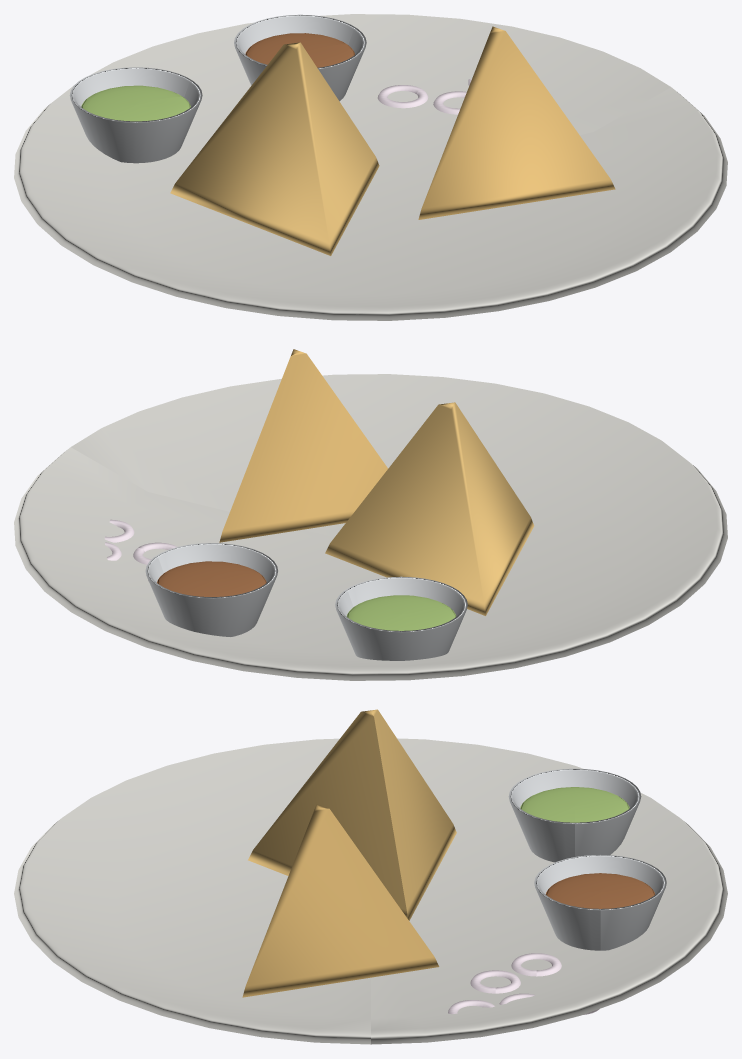
File: samosa.glb
3 views of the same model, one above another, from view 1: azimuth 30°, elevation 25°; view 2: azimuth 150°, elevation 25°; view 3: azimuth 270°, elevation 25° (orthographic).
Visible parts, largest first — view 1: samosa; view 2: samosa; view 3: samosa.
Boxes of the visible parts, left/top/right/bottom form: samosa: left=14, top=14, right=727, bottom=320; samosa: left=14, top=349, right=727, bottom=680; samosa: left=14, top=709, right=727, bottom=1044.
Size of the model in its own units: 0.28 by 0.076 by 0.28.
